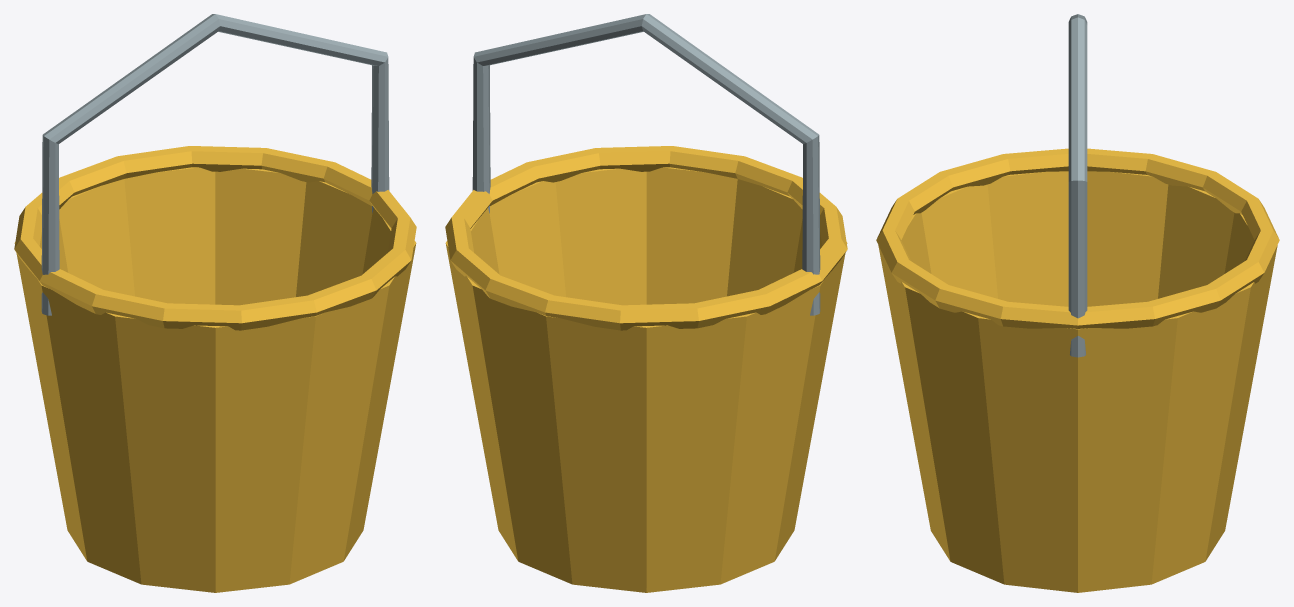
Rendered from Bucket.glb.
The picture shows the model from 3 angles, left to right: view 1: azimuth 30°, elevation 25°; view 2: azimuth 150°, elevation 25°; view 3: azimuth 270°, elevation 25°; orthographic projection.
Visible parts, largest first — view 1: Bucket; view 2: Bucket; view 3: Bucket.
Boxes of the visible parts, x1,y1,x2,y2 form: Bucket: (14,14,416,592); Bucket: (445,14,847,592); Bucket: (876,14,1279,592).
Bounding box in the file's own units: 0.384 × 0.539 × 0.384.
